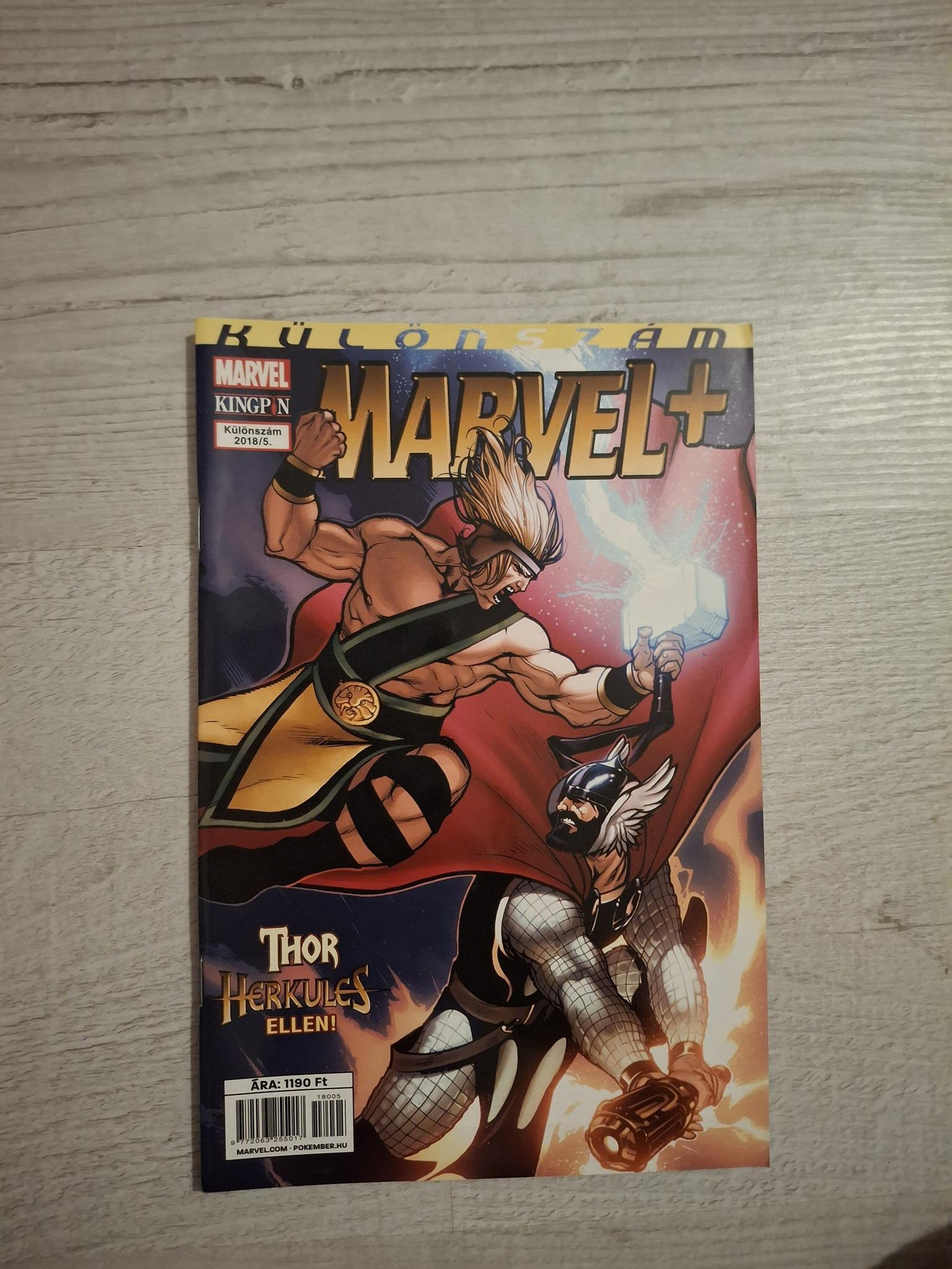comic: (191, 313, 768, 1190)
